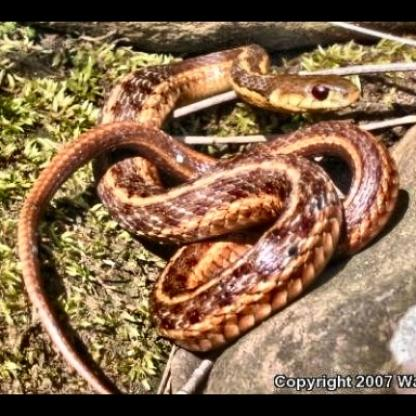Snake: (16, 42, 398, 370)
